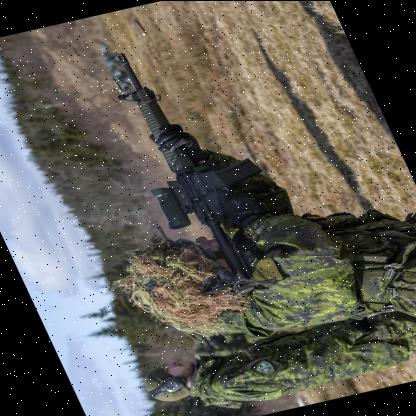rifle: (90, 26, 296, 288)
